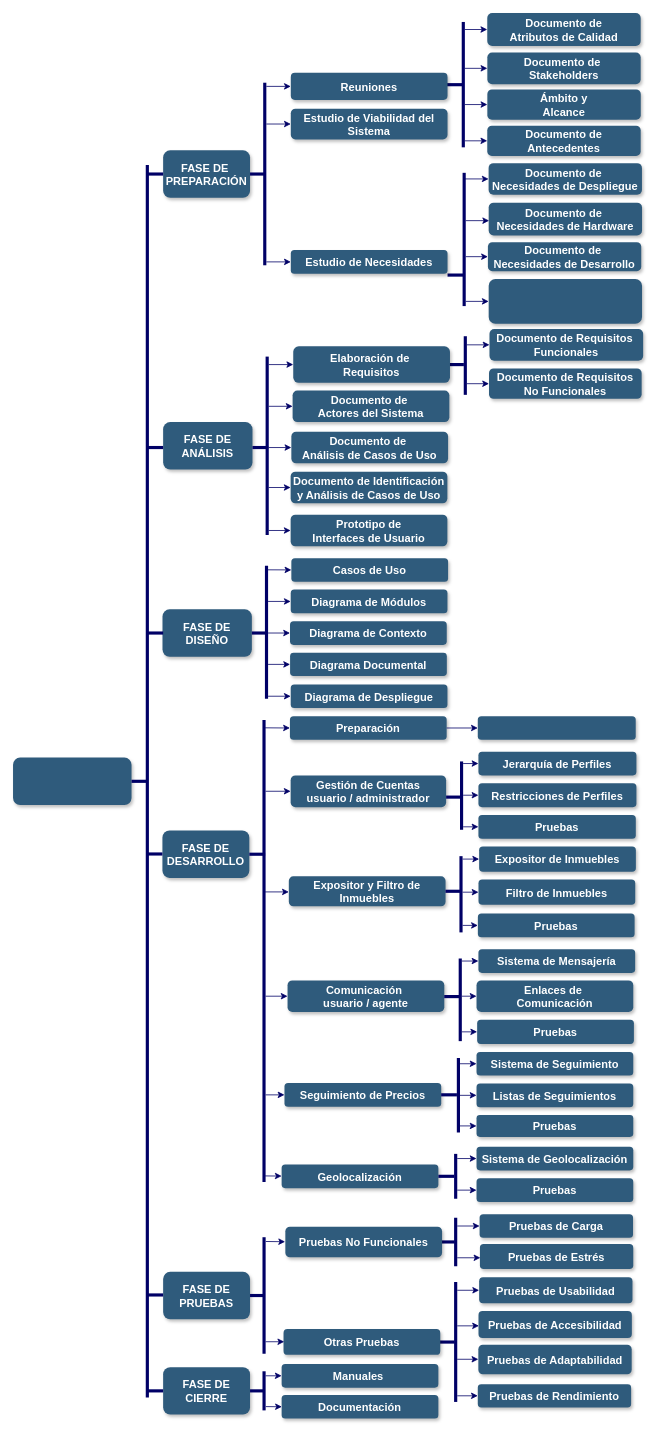
This 656x1431 diagram has some shape labels left out. The shapes that lost their labels are listed below. From the top down, each one's centre as x and y in pixels, then its label:
At pixel 565 302: "Documento de Necesidades de Almacenamiento".
At pixel 557 729: "Proyecto Inicial".
At pixel 72 782: "APLICACIÓN WEB INMOBILIARIA".
